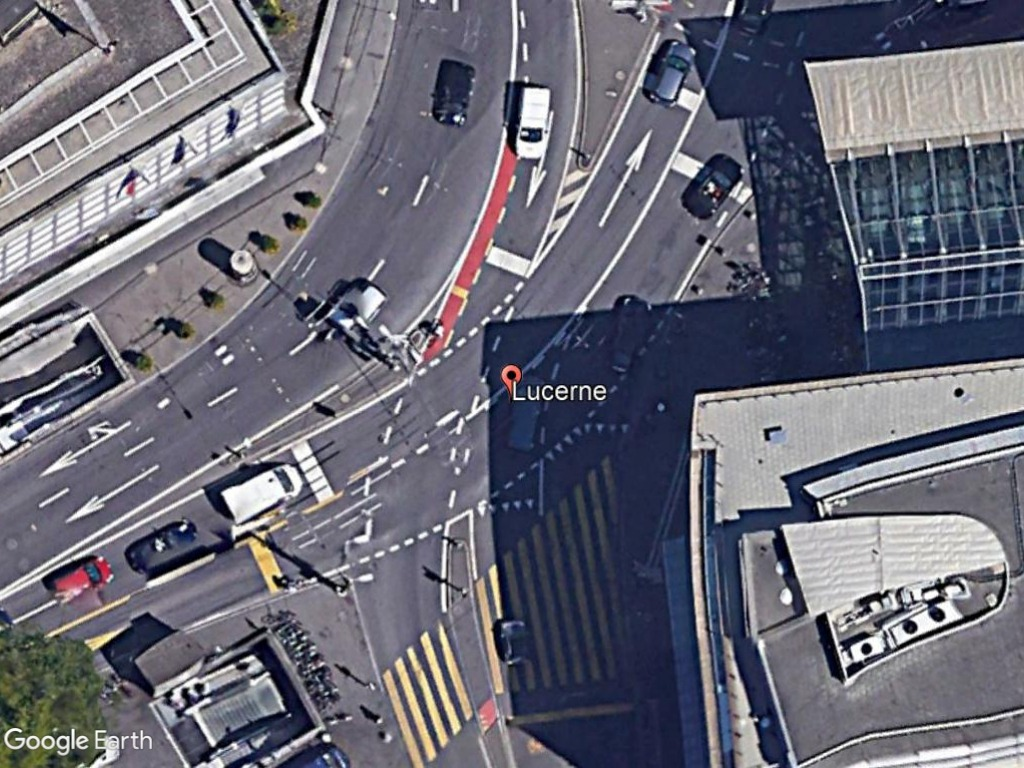car: (645, 38, 700, 109)
van: (216, 457, 303, 529), (512, 83, 551, 163)
